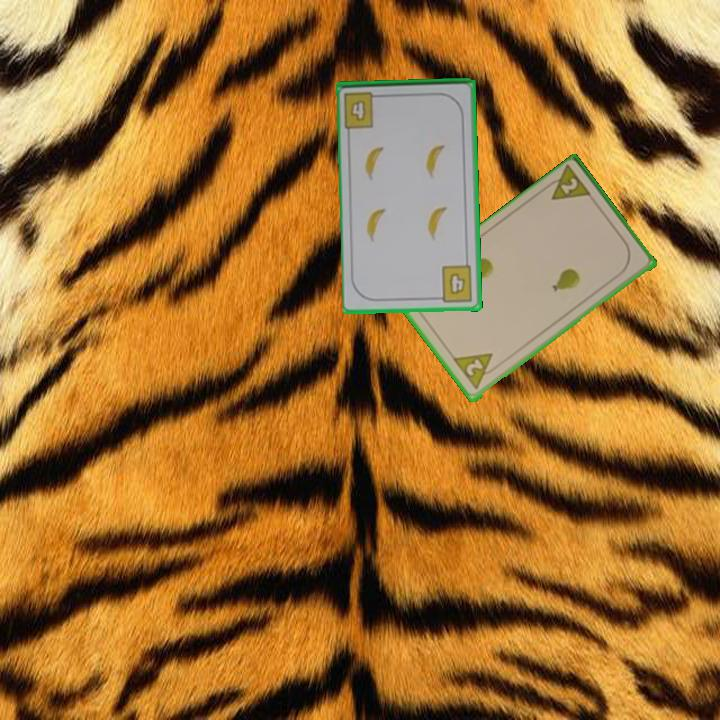2p: (450, 349, 502, 393), (557, 174, 581, 198)
4b: (341, 88, 385, 131), (433, 262, 475, 305)
